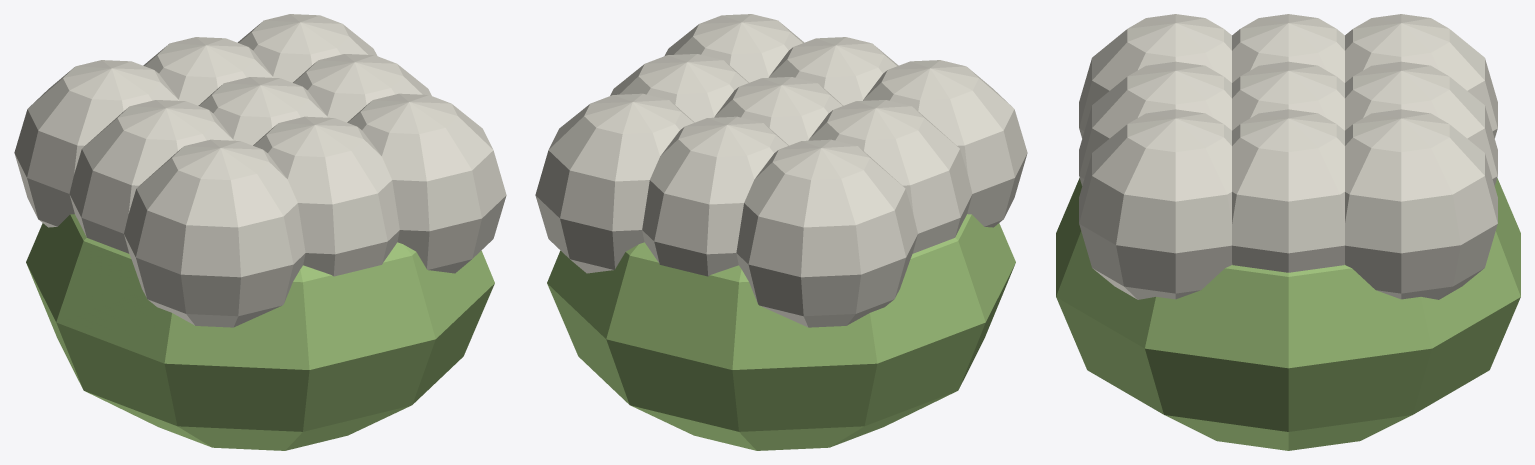
File: supermarket-operations-cauliflower-b05789a2__26916.glb
3 views of the same model, side by side, from view 1: azimuth 30°, elevation 25°; view 2: azimuth 150°, elevation 25°; view 3: azimuth 270°, elevation 25° (orthographic). The views are drawn at different scales.
Visible parts, largest first — view 1: cauliflower; view 2: cauliflower; view 3: cauliflower.
Boxes of the visible parts, left/top/right/bottom form: cauliflower: left=14, top=14, right=506, bottom=450; cauliflower: left=535, top=14, right=1027, bottom=450; cauliflower: left=1056, top=14, right=1520, bottom=450.
Size of the model in its own units: 0.13 by 0.1025 by 0.1236.
